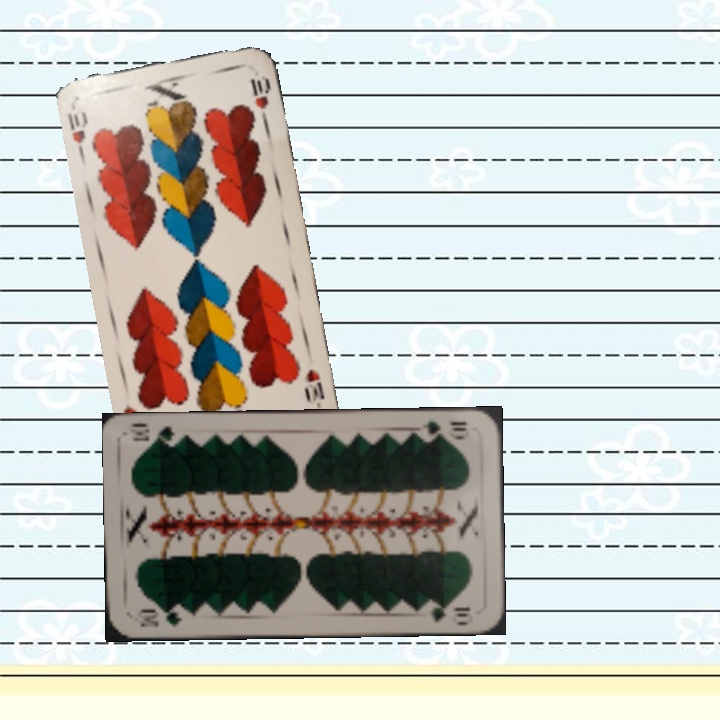G10: (132, 605, 184, 630), (417, 417, 470, 441)
H10: (63, 107, 90, 159), (302, 365, 327, 411)
